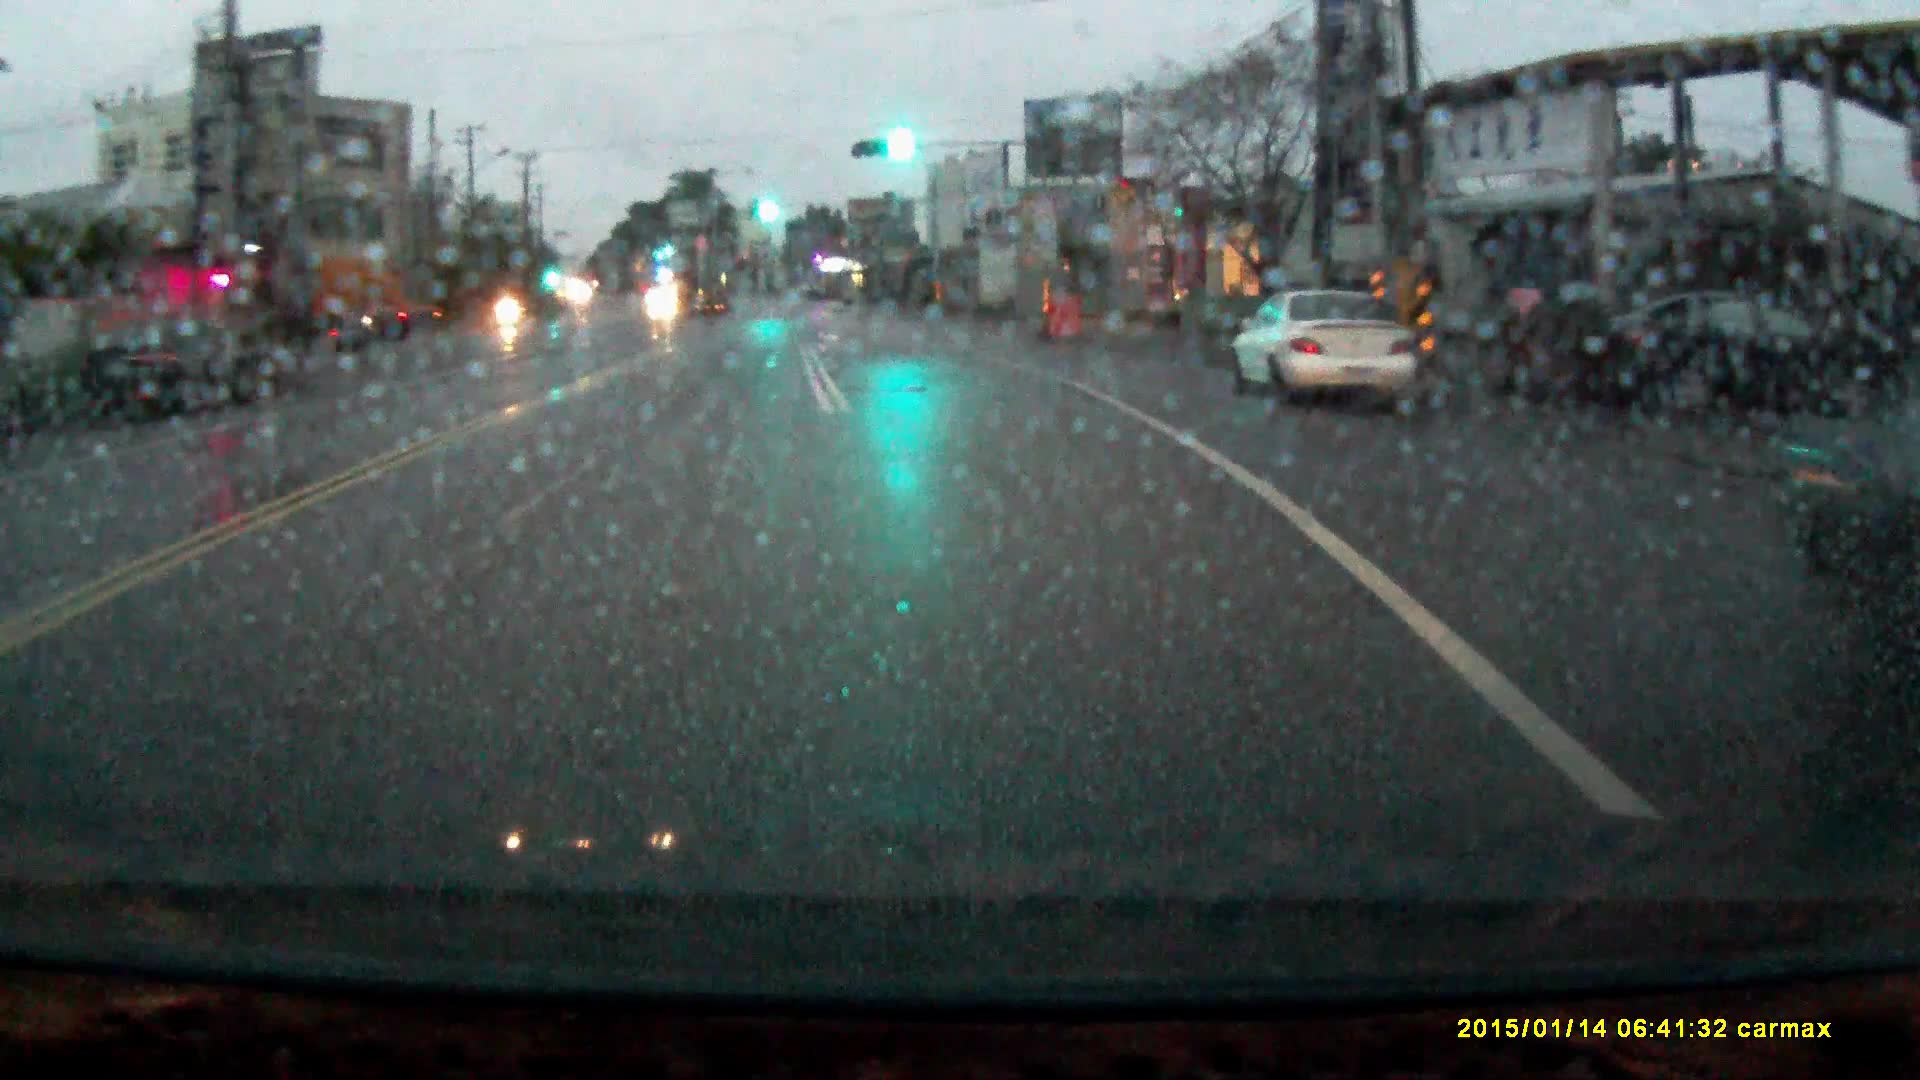rider: (490, 277, 524, 332)
vehicle: (1227, 289, 1417, 407), (262, 233, 440, 338), (73, 322, 252, 424), (648, 286, 677, 311)
